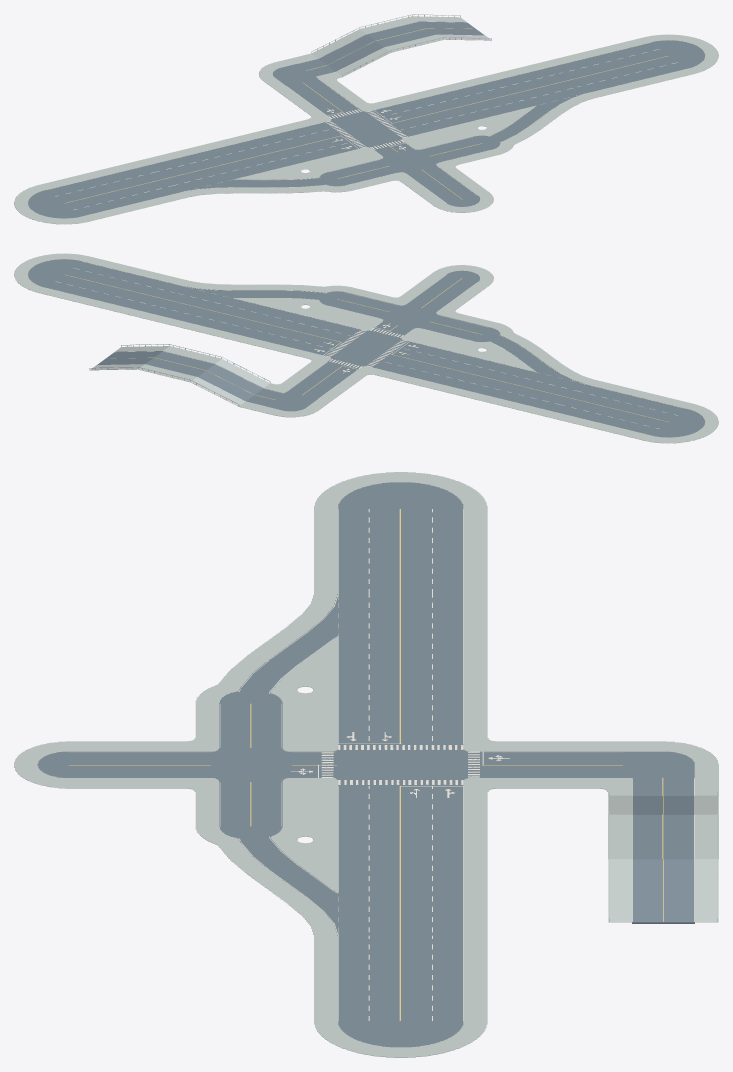
Rendered from network-w78-s59.glb.
The picture shows the model from 3 angles, top to bottom: view 1: azimuth 30°, elevation 25°; view 2: azimuth 150°, elevation 25°; view 3: azimuth 270°, elevation 25°; orthographic projection. The views are drawn at different scales.
Visible parts, largest first — view 1: Road_surface, Sidewalks, Lane_markings, Ramp_surface, Crosswalks, Bridge_railings; view 2: Road_surface, Sidewalks, Lane_markings, Ramp_surface, Crosswalks, Bridge_railings; view 3: Road_surface, Sidewalks, Ramp_surface, Lane_markings, Crosswalks.
Boxes of the visible parts, box(x1,y1,x2,y2) form: Road_surface: box(28, 22, 704, 218); Sidewalks: box(14, 16, 718, 224); Lane_markings: box(47, 21, 677, 209); Ramp_surface: box(319, 21, 484, 71); Crosswalks: box(325, 109, 407, 149); Bridge_railings: box(311, 14, 491, 76); Road_surface: box(28, 259, 704, 437); Sidewalks: box(14, 253, 718, 443); Lane_markings: box(55, 262, 685, 428); Ramp_surface: box(97, 351, 263, 401); Crosswalks: box(325, 328, 407, 368); Bridge_railings: box(89, 344, 270, 405); Road_surface: box(37, 482, 694, 1047); Sidewalks: box(14, 472, 718, 1057); Ramp_surface: box(632, 796, 694, 923); Lane_markings: box(68, 509, 694, 1021); Crosswalks: box(321, 745, 479, 784).
Bounding box in the file's own units: 343 × 7.51 × 174.
